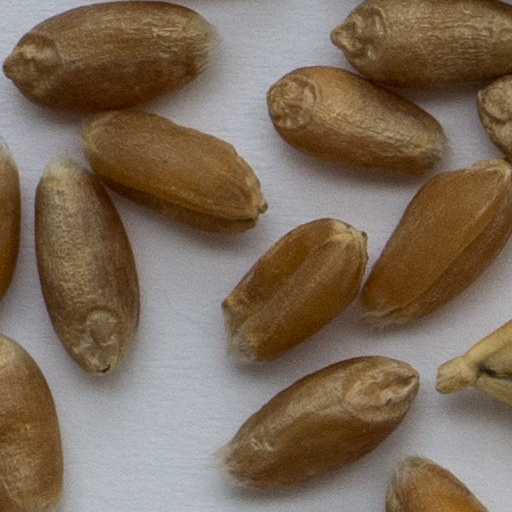Peel-poly: (437, 319, 511, 405)
